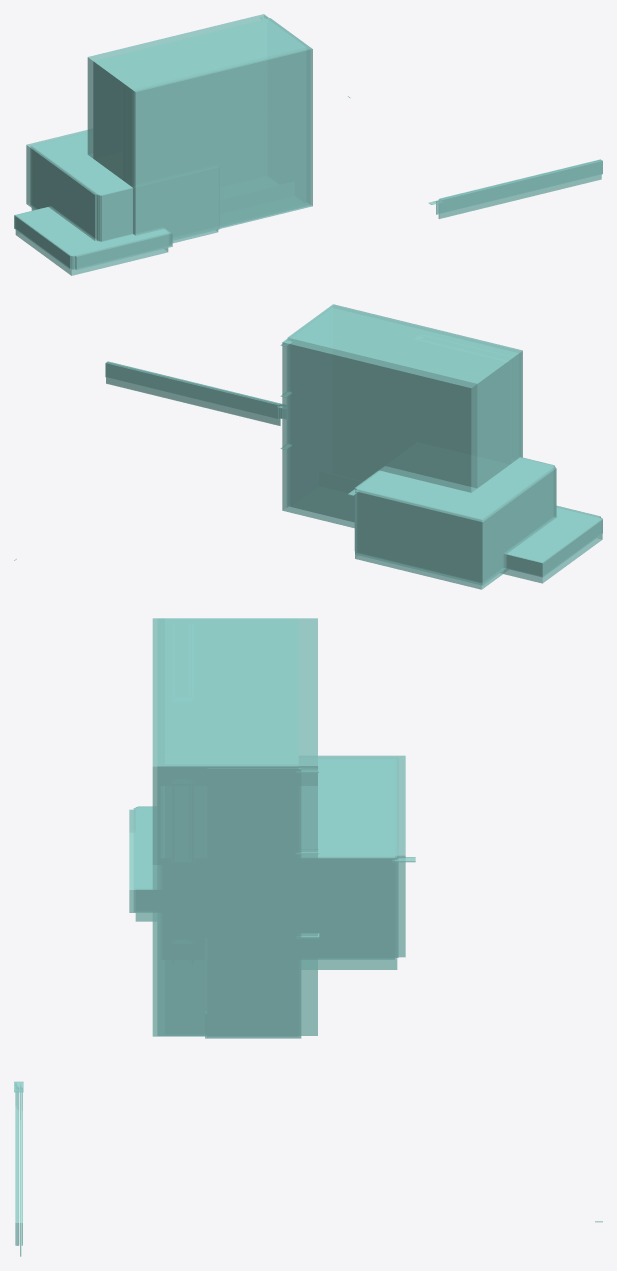
Rendered from utilities.glb.
3 views of the same model, one above another, from view 1: azimuth 30°, elevation 25°; view 2: azimuth 150°, elevation 25°; view 3: azimuth 270°, elevation 25° (orthographic). The views are drawn at different scales.
Visible parts, largest first — view 1: utilities; view 2: utilities; view 3: utilities.
Boxes of the visible parts, x1,y1,x2,y2 form: utilities: (14,14,602,275); utilities: (14,304,602,589); utilities: (14,618,602,1256).
Bounding box in the file's own units: 32.91 × 11.63 × 19.66.
